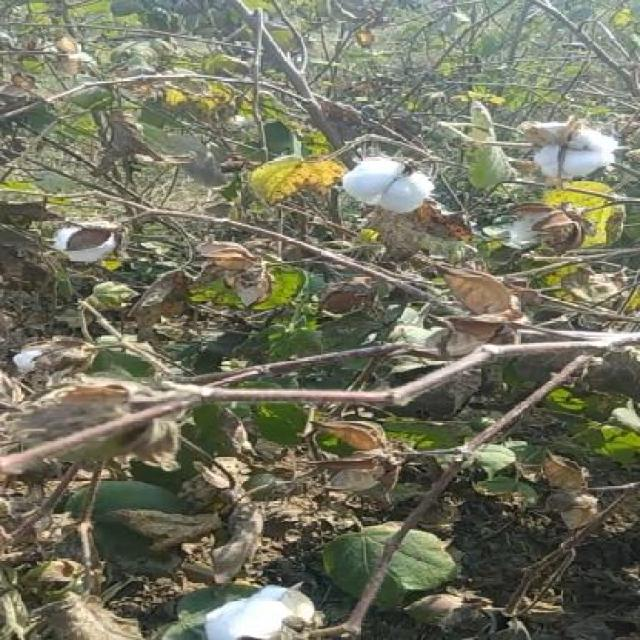cotton_ready: (155, 581, 358, 640), (329, 149, 451, 226), (508, 118, 618, 190), (7, 330, 113, 385), (41, 219, 150, 270)
